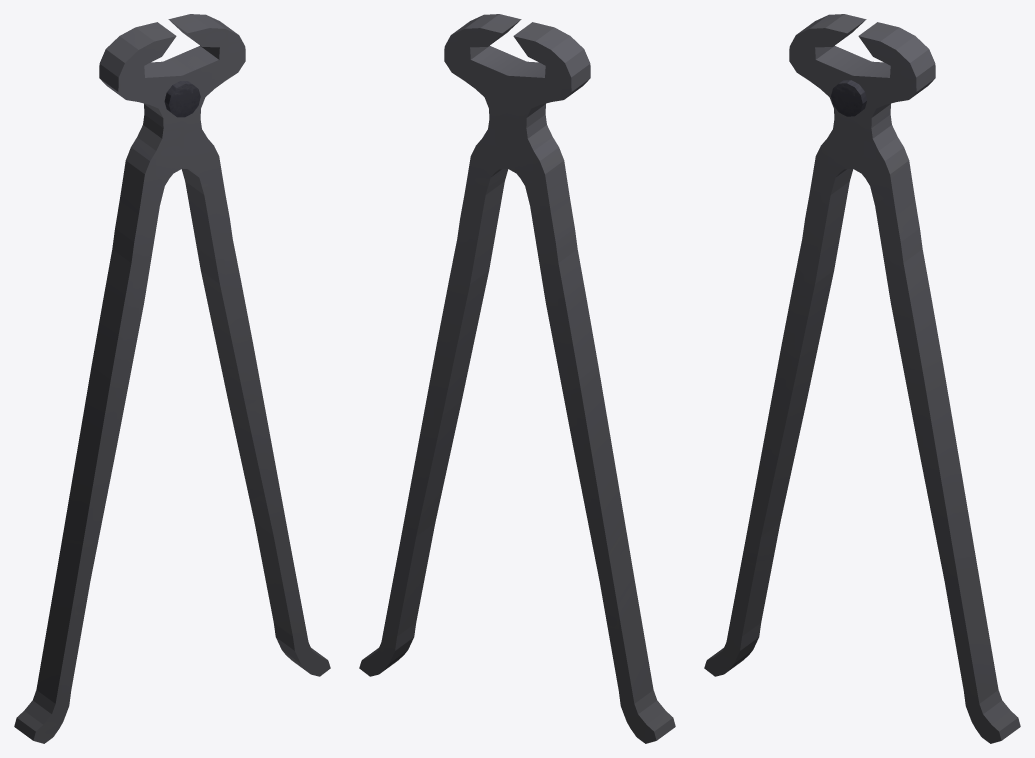
File: Tongs.fbx
3 renders of one model, left to right at view 1: azimuth 30°, elevation 25°; view 2: azimuth 150°, elevation 25°; view 3: azimuth 330°, elevation 25°, orthographic.
Visible parts, largest first — view 1: Tongs1; view 2: Tongs1; view 3: Tongs1.
Boxes of the visible parts, left/top/right/bottom form: Tongs1: left=14, top=14, right=330, bottom=743; Tongs1: left=359, top=14, right=675, bottom=743; Tongs1: left=704, top=14, right=1020, bottom=743.
Bounding box in the file's own units: 18.67 × 40.52 × 2.57.
Materials: 1 (1 with a texture image).
